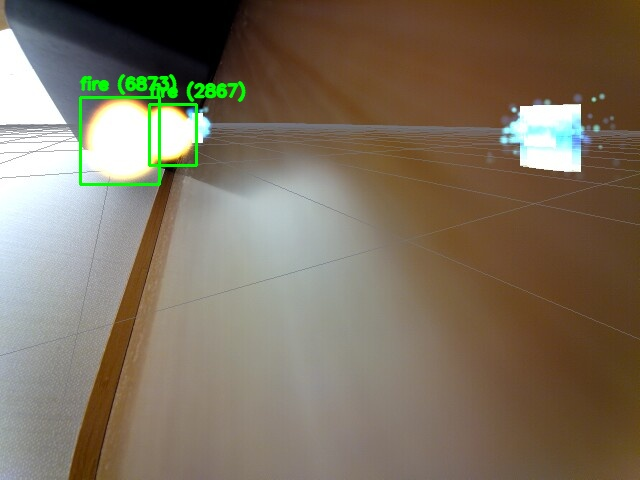fire: (80, 97, 159, 184), (149, 104, 196, 165)
